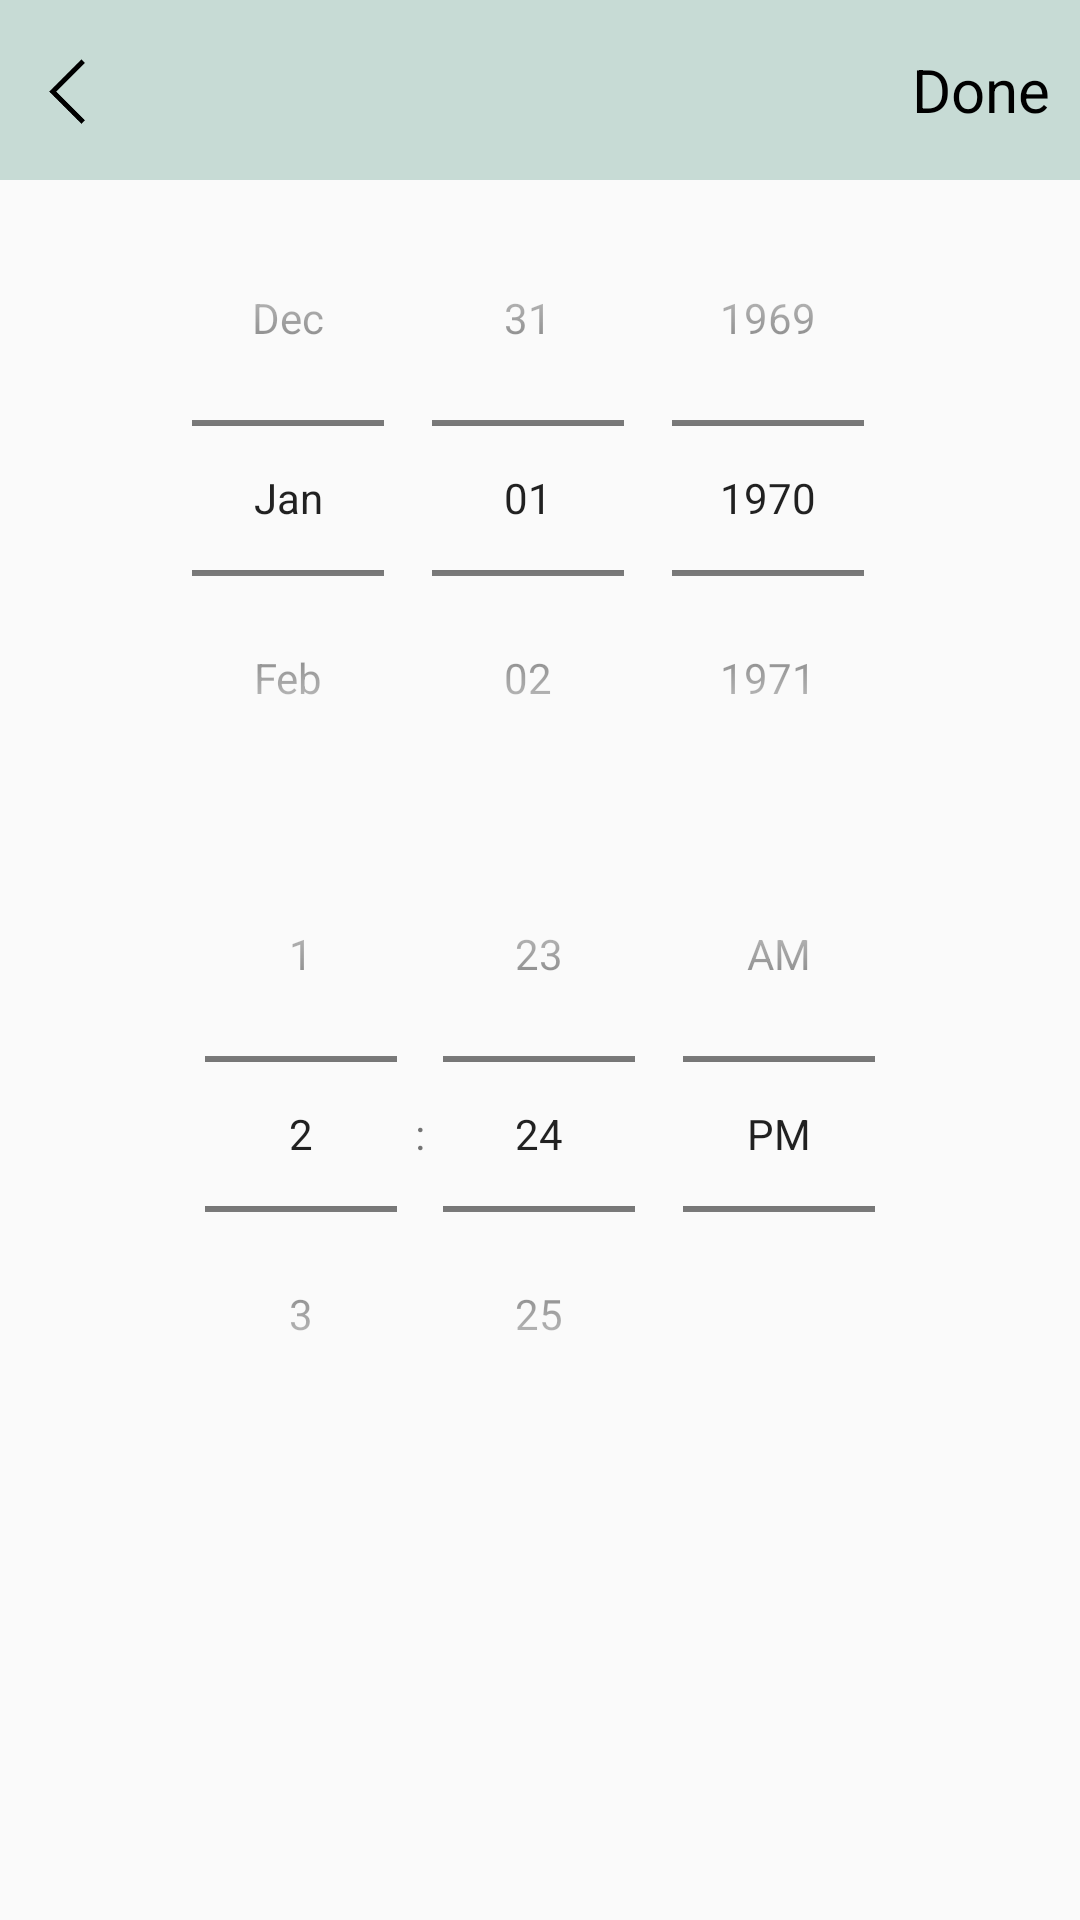

Icons on this 1080×1920 Android screen, each with the point to tap as point (x, y):
back: point (67, 91)
